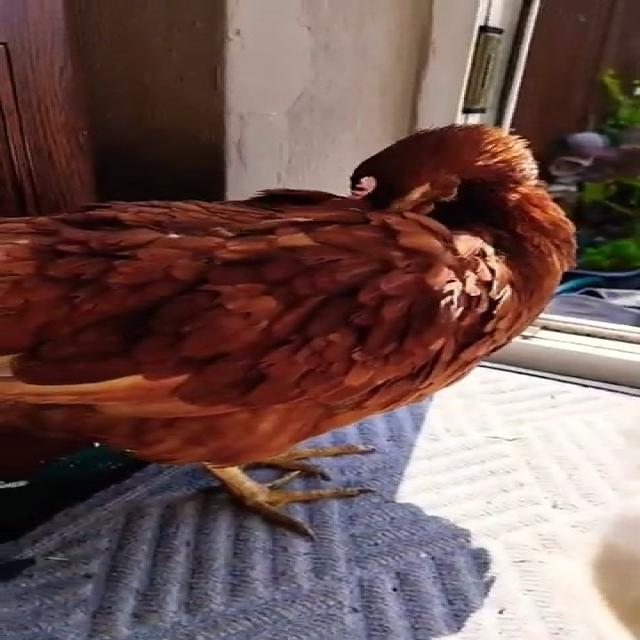self preening: (0, 108, 594, 550)
